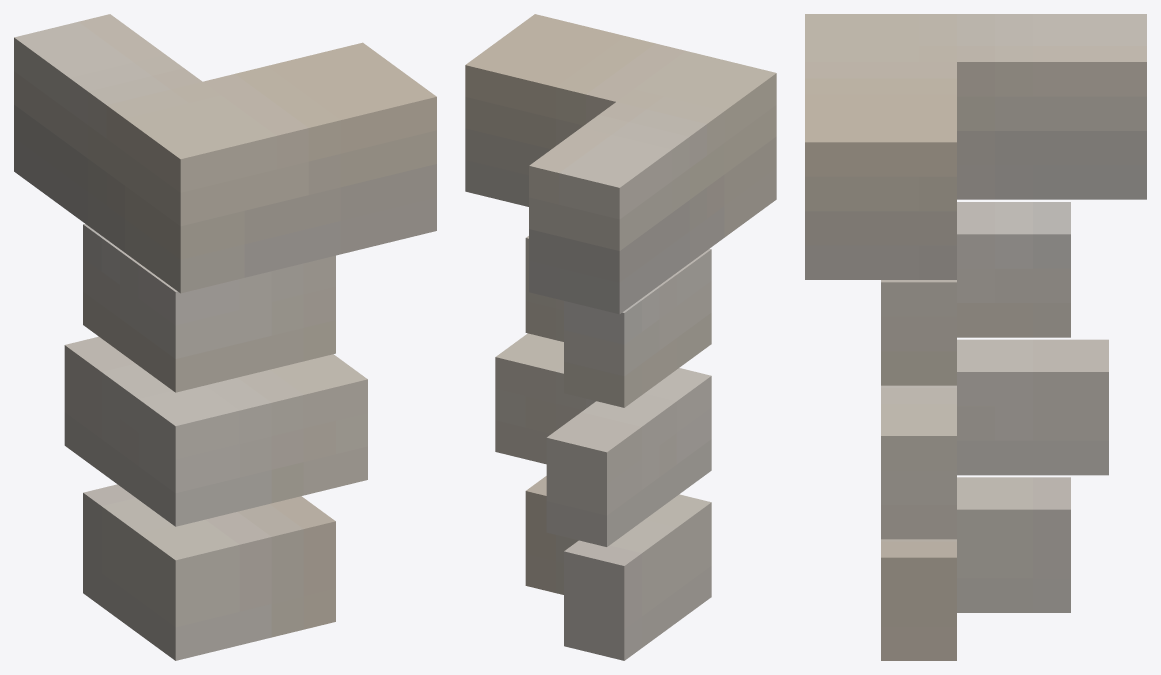
The model's file is Laterale.gltf.
3 renders of one model, left to right at view 1: azimuth 30°, elevation 25°; view 2: azimuth 150°, elevation 25°; view 3: azimuth 270°, elevation 25°, orthographic. The views are drawn at different scales.
Parts seen in each view (by area): view 1: Layer.1; view 2: Layer.1; view 3: Layer.1.
Part boxes in pixels (x1,y1,x2,y2): Layer.1: [14, 14, 436, 660]; Layer.1: [465, 14, 776, 660]; Layer.1: [805, 14, 1146, 660].
Bounding box in the file's own units: 8 × 16 × 9.
Materials: 1 (1 with a texture image).
